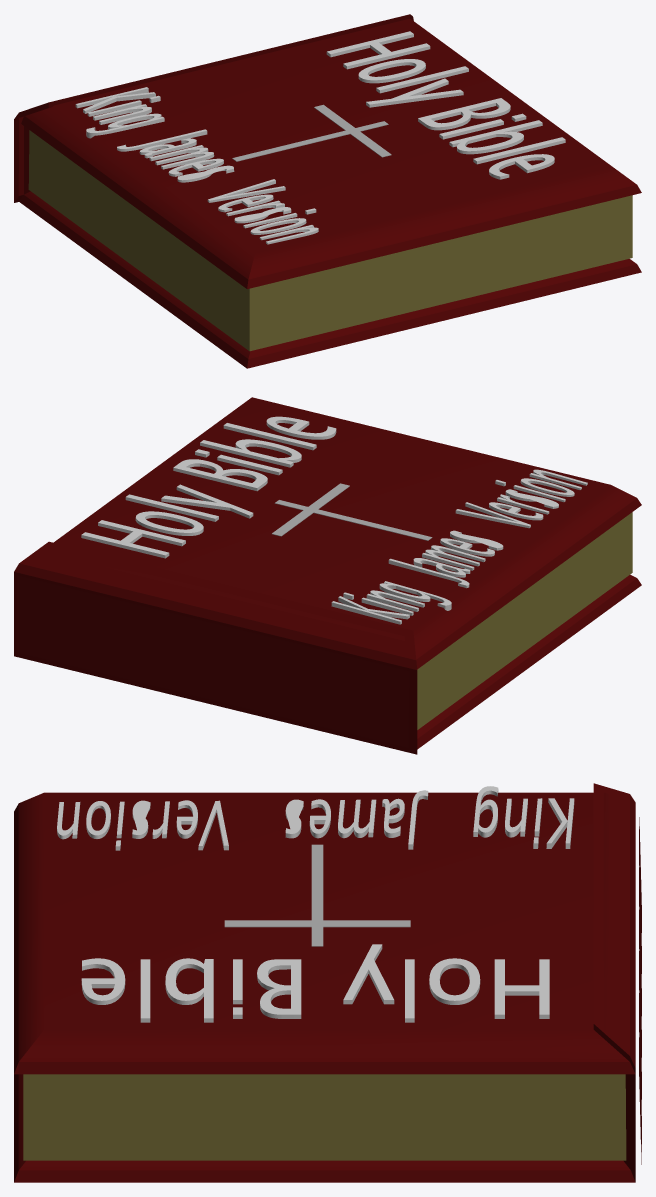
The model's file is bible.fbx.
3 renders of one model, top to bottom at view 1: azimuth 30°, elevation 25°; view 2: azimuth 150°, elevation 25°; view 3: azimuth 270°, elevation 25°, orthographic. The views are drawn at different scales.
Visible parts, largest first — view 1: polySurface3; view 2: polySurface3; view 3: polySurface3.
Part boxes in pixels (x1,y1,x2,y2): polySurface3: (14, 14, 641, 368); polySurface3: (14, 397, 641, 754); polySurface3: (14, 783, 641, 1182).
Bounding box in the file's own units: 1.01 × 0.2594 × 1.01.
